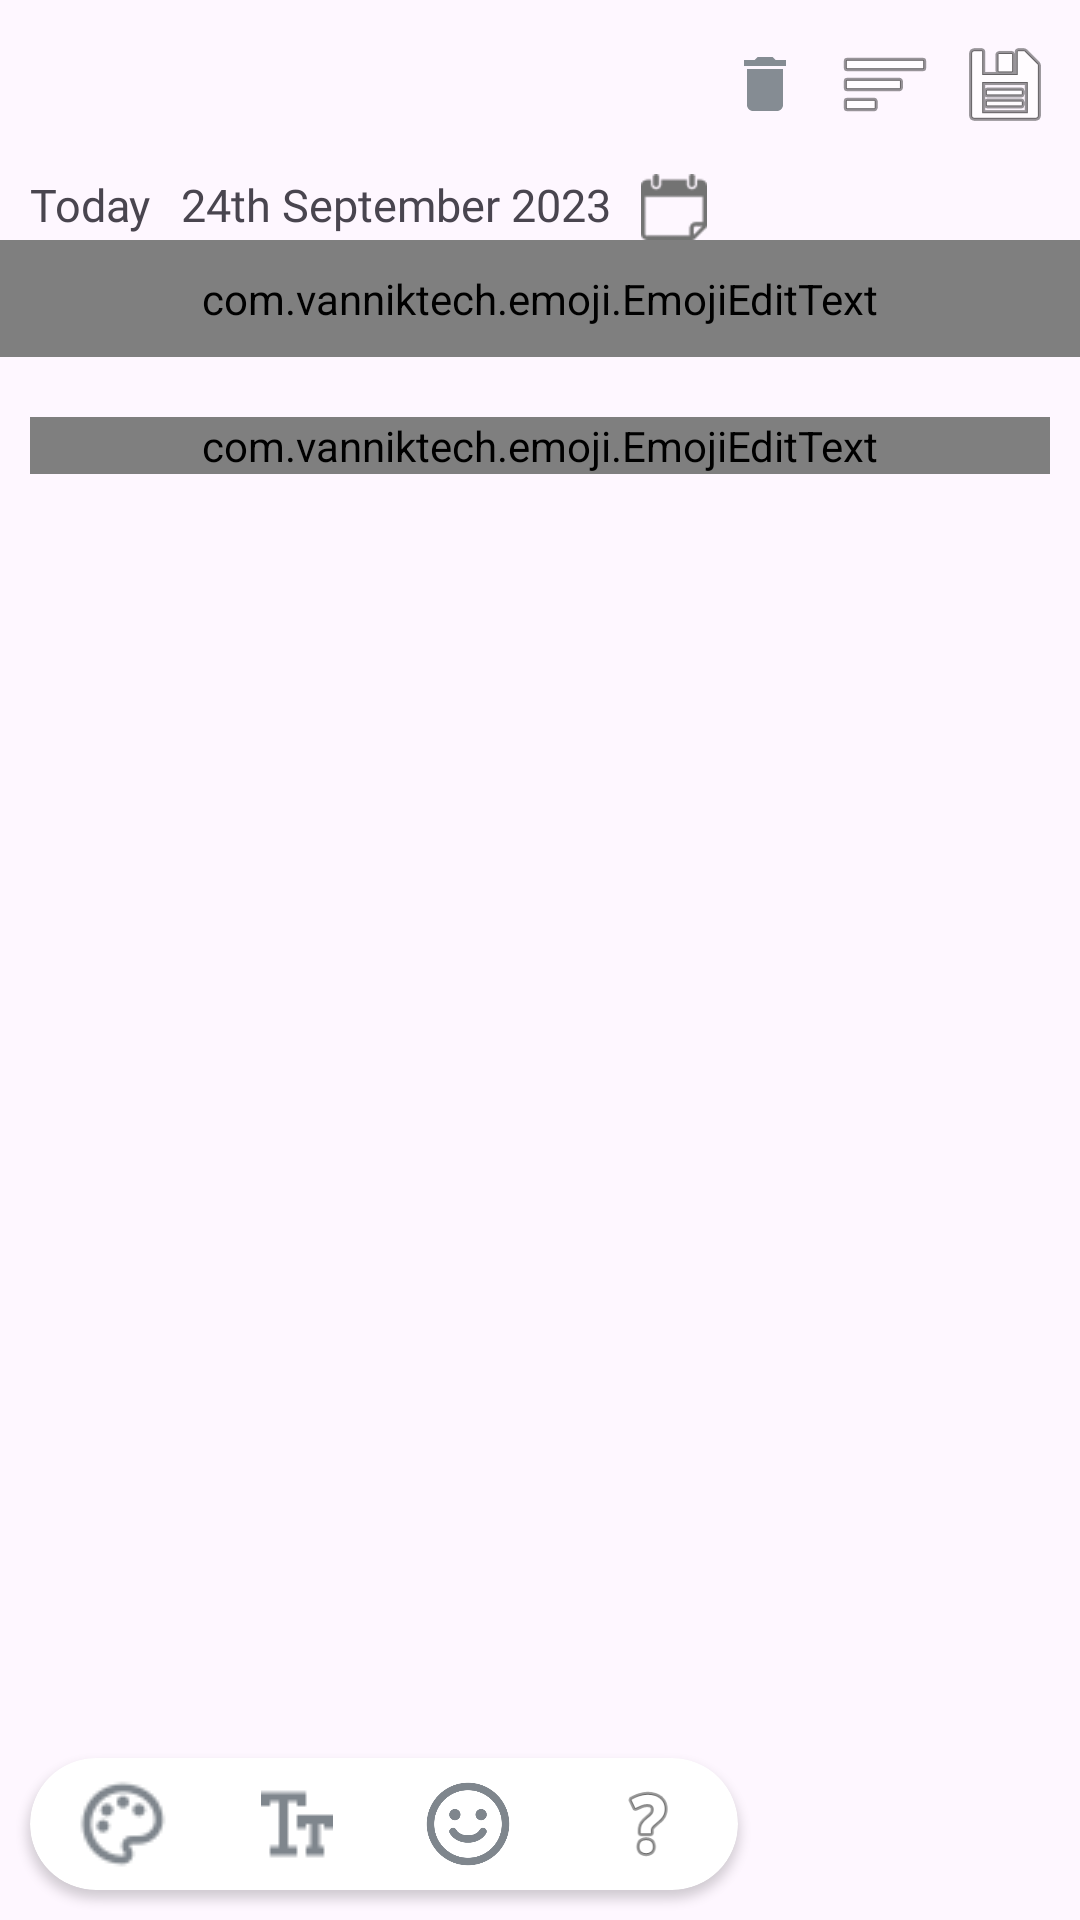

Where icons sit on this 1080 × 1920 app screen, as BBox(x1, y1, x2, y2):
calender view: BBox(641, 174, 707, 240)
emoji: BBox(427, 1783, 509, 1865)
palette: BBox(81, 1782, 164, 1866)
save: BBox(969, 48, 1041, 121)
sort by size: BBox(844, 58, 926, 111)
Writing Prompts: BBox(628, 1792, 668, 1856)
